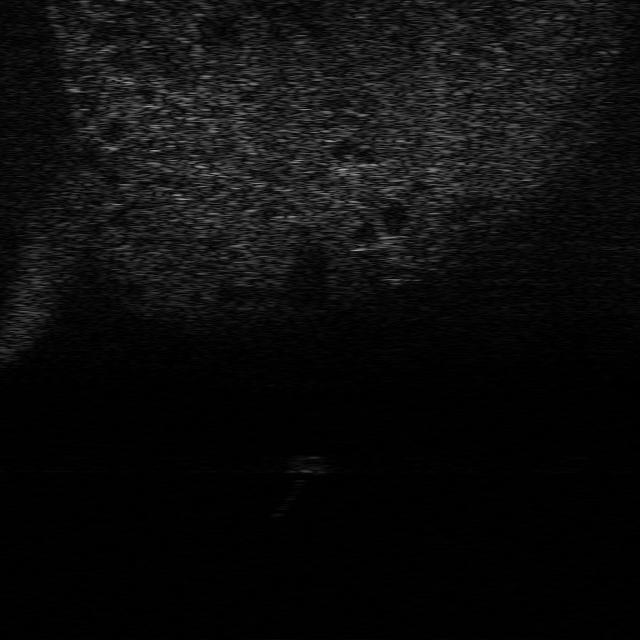cube: (285, 452, 329, 476)
